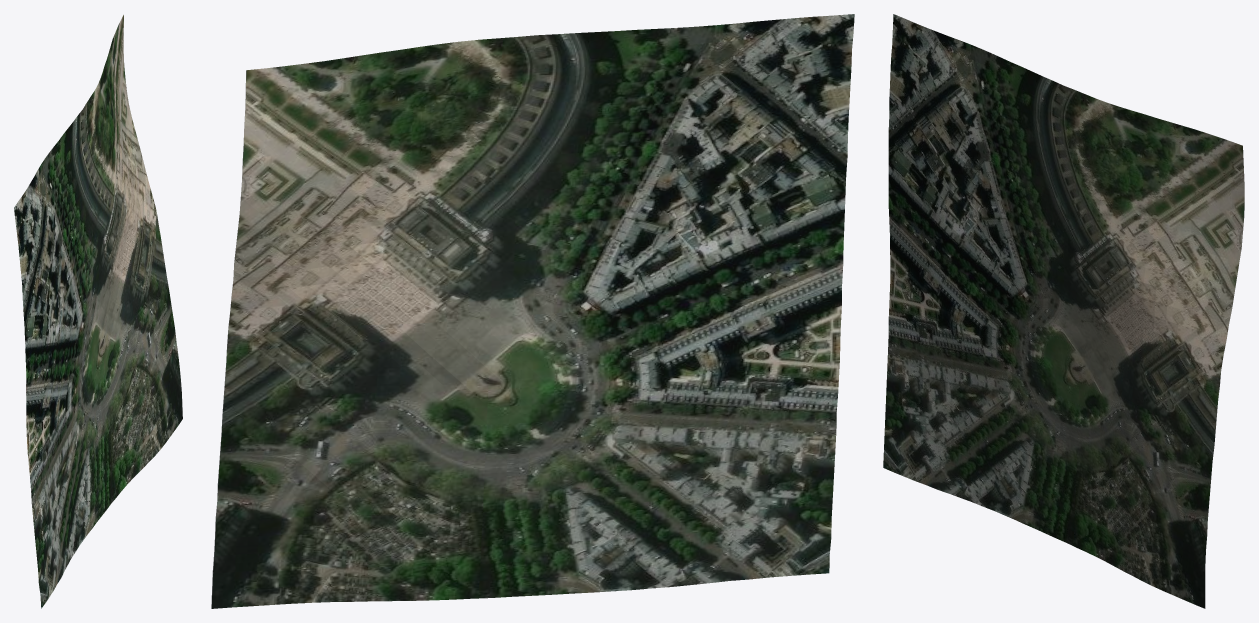
The picture shows the model from 3 angles, left to right: view 1: azimuth 30°, elevation 25°; view 2: azimuth 150°, elevation 25°; view 3: azimuth 270°, elevation 25°; orthographic projection. The views are drawn at different scales.
Size of the model in its own units: 325 by 414 by 298.
1 material, 1 textured.
